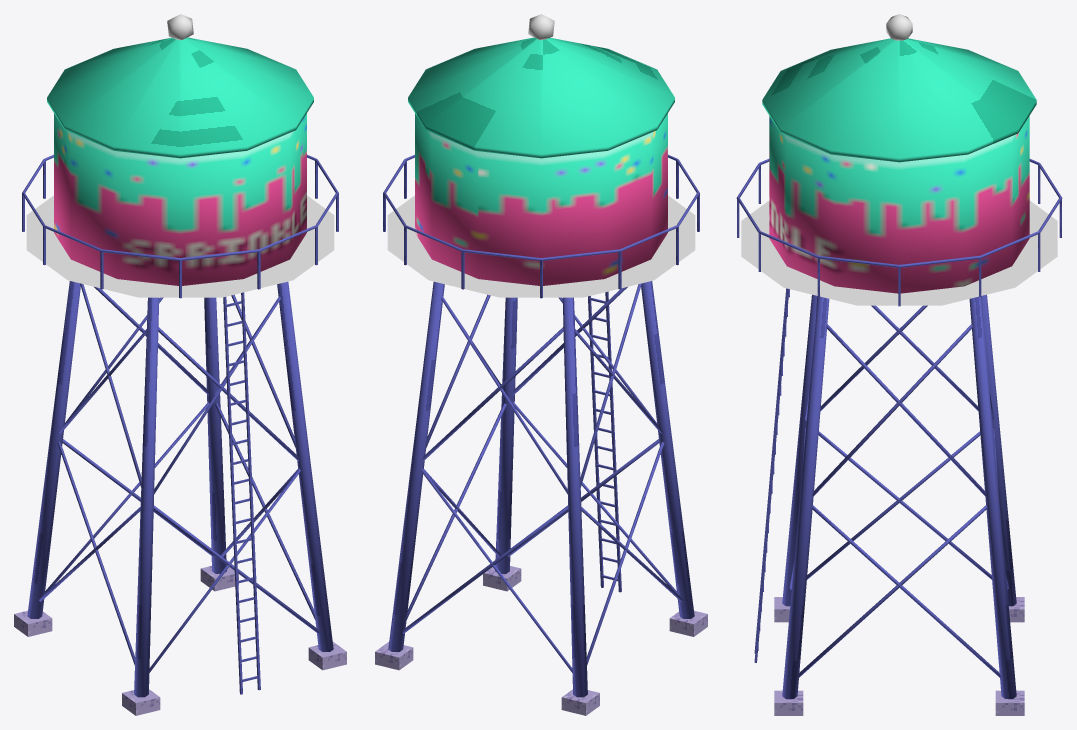
Rendered from Water Tower.fbx.
3 renders of one model, left to right at view 1: azimuth 30°, elevation 25°; view 2: azimuth 150°, elevation 25°; view 3: azimuth 270°, elevation 25°, orthographic. The views are drawn at different scales.
Parts seen in each view (by area): view 1: Water Tower tank, Water Tower roof, Water Tower catwalk, Water Tower leg 2, Water Tower leg 1, Water Tower leg 3, Water Tower leg 0, Water Tower rail, Water Tower ladder rail -1, Water Tower ladder rail 1, Water Tower brace 0 2 a, Water Tower brace 0 1 a (+14 smaller); view 2: Water Tower tank, Water Tower roof, Water Tower catwalk, Water Tower leg 3, Water Tower leg 0, Water Tower leg 2, Water Tower leg 1, Water Tower rail, Water Tower ladder rail -1, Water Tower ladder rail 1, Water Tower brace 0 0 a, Water Tower brace 0 2 b (+14 smaller); view 3: Water Tower tank, Water Tower roof, Water Tower catwalk, Water Tower leg 0, Water Tower leg 1, Water Tower leg 2, Water Tower leg 3, Water Tower rail, Water Tower ladder rail 1, Water Tower brace 0 0 a, Water Tower brace 0 0 b, Water Tower brace 1 0 a (+9 smaller).
Part boxes in pixels (box(x1,y1,x2,y2)): Water Tower tank: box(54, 113, 306, 285); Water Tower roof: box(47, 37, 313, 158); Water Tower catwalk: box(26, 195, 334, 297); Water Tower leg 2: box(134, 297, 159, 697); Water Tower leg 1: box(277, 281, 333, 651); Water Tower leg 3: box(27, 281, 80, 618); Water Tower leg 0: box(204, 297, 226, 573); Water Tower rail: box(22, 154, 338, 260); Water Tower ladder rail -1: box(223, 297, 242, 694); Water Tower ladder rail 1: box(241, 292, 260, 690); Water Tower brace 0 2 a: box(57, 442, 135, 665); Water Tower brace 0 1 a: box(153, 505, 319, 633); Water Tower tank: box(415, 113, 667, 285); Water Tower roof: box(408, 37, 674, 158); Water Tower catwalk: box(387, 195, 695, 297); Water Tower leg 3: box(562, 297, 587, 697); Water Tower leg 0: box(388, 281, 444, 651); Water Tower leg 2: box(641, 281, 694, 618); Water Tower leg 1: box(495, 297, 517, 573); Water Tower rail: box(383, 154, 699, 260); Water Tower ladder rail -1: box(605, 291, 621, 592); Water Tower ladder rail 1: box(588, 296, 603, 587); Water Tower brace 0 0 a: box(406, 403, 506, 619); Water Tower brace 0 2 b: box(586, 442, 664, 665); Water Tower tank: box(769, 116, 1029, 293); Water Tower roof: box(762, 38, 1036, 162); Water Tower catwalk: box(741, 201, 1057, 305); Water Tower leg 0: box(969, 296, 1016, 698); Water Tower leg 1: box(782, 296, 829, 698); Water Tower leg 2: box(782, 294, 817, 606); Water Tower leg 3: box(981, 294, 1016, 606); Water Tower rail: box(736, 159, 1062, 267); Water Tower ladder rail 1: box(754, 288, 789, 662); Water Tower brace 0 0 a: box(812, 505, 1000, 677); Water Tower brace 0 0 b: box(798, 505, 986, 677); Water Tower brace 1 0 a: box(826, 324, 986, 496).
Size of the model in its own units: 6.77 by 14.89 by 6.77.
Materials: 6 (4 with a texture image).
